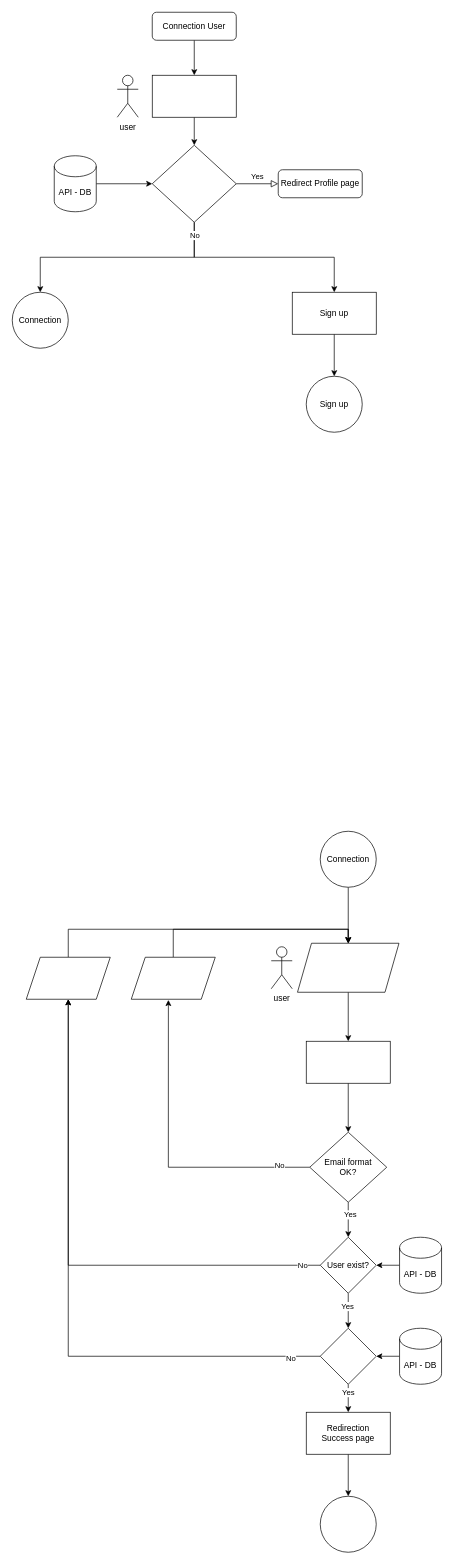
Some shapes in this 454 by 1565 pixel diagram are drawn without their labels. The centre of each missing label's shape, as x and y in pixels:
"'Connection' button" belongs at pixel 348 1062.
"Click on 'Connection page'" belongs at pixel 194 96.
"Is user already connected?" belongs at pixel 194 183.
"Message error Email format" belongs at pixel 173 978.
"Message error User/Pwd error" belongs at pixel 68 978.
"Password?" belongs at pixel 348 1356.
"Sign in Email Password" belongs at pixel 348 967.
